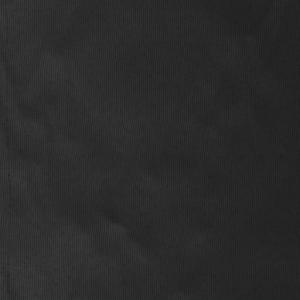Wrinkle: (1, 44, 193, 300)
